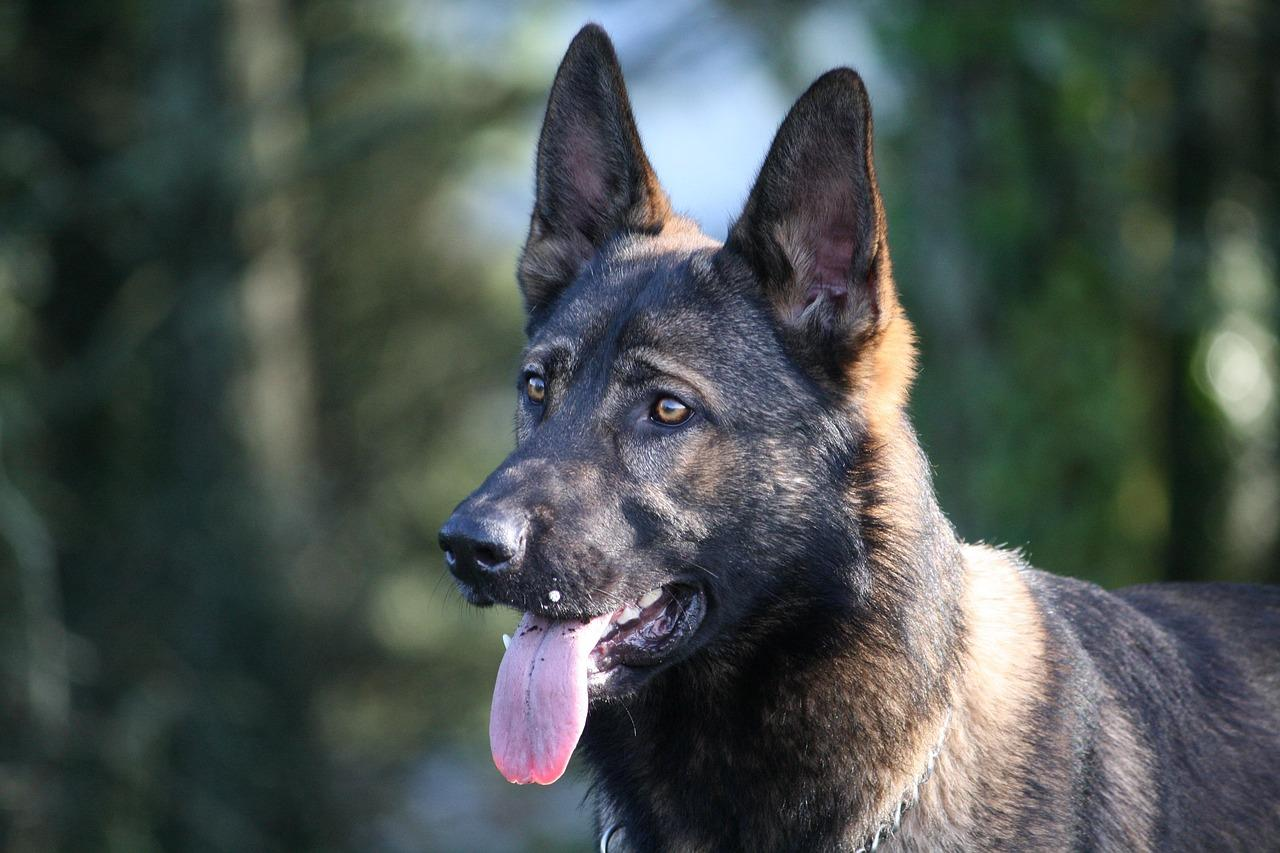german_shepherd: (412, 65, 877, 755)
